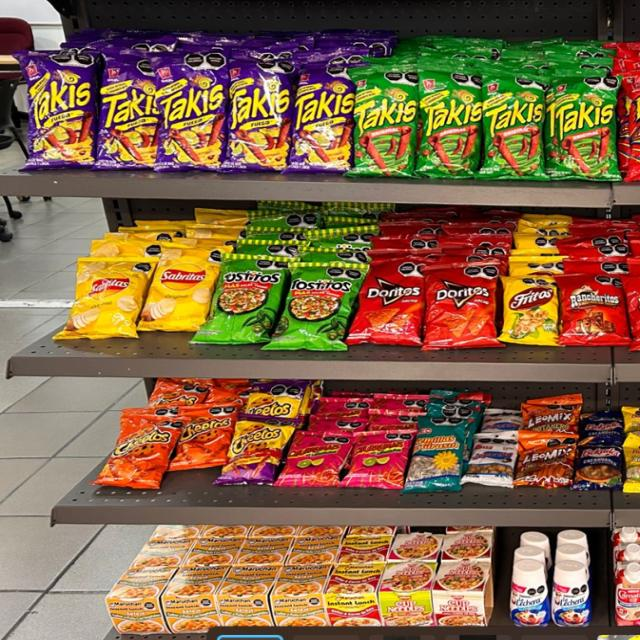bokadosCacahuates: (583, 439, 619, 494)
cheetosFlaminHot: (232, 420, 280, 484)
cheetosOriginal: (115, 410, 167, 489), (177, 403, 224, 466)
churrumais: (291, 425, 345, 487), (352, 430, 404, 490)
doritosNacho: (427, 260, 494, 350), (362, 258, 421, 343)
fritosLimon: (505, 274, 555, 347)
leoCacahuates: (474, 430, 516, 489)
leoMix: (523, 433, 573, 490), (531, 397, 579, 428)
maruchanPollo: (106, 558, 162, 634), (167, 568, 218, 632), (274, 566, 325, 627), (225, 566, 270, 626)
maruchanRes: (330, 563, 379, 628)
nestleCarnation: (617, 562, 640, 623)
nestleLechera: (553, 555, 593, 628), (515, 553, 547, 629)
nissinCamaron: (384, 562, 432, 628)
nissinRes: (438, 559, 489, 626)
rancheritos: (563, 276, 627, 347)
sabritasOriginal: (73, 258, 138, 342), (146, 253, 204, 329)
semillasGirasol: (412, 422, 463, 488)
takisFuego: (26, 50, 94, 166), (163, 55, 225, 170), (232, 59, 285, 173), (104, 58, 154, 170), (296, 67, 346, 170)
takisOriginal: (420, 68, 480, 178), (354, 68, 414, 175), (551, 81, 614, 181), (487, 72, 544, 179)
tostitos: (288, 260, 348, 354), (217, 255, 278, 342)
